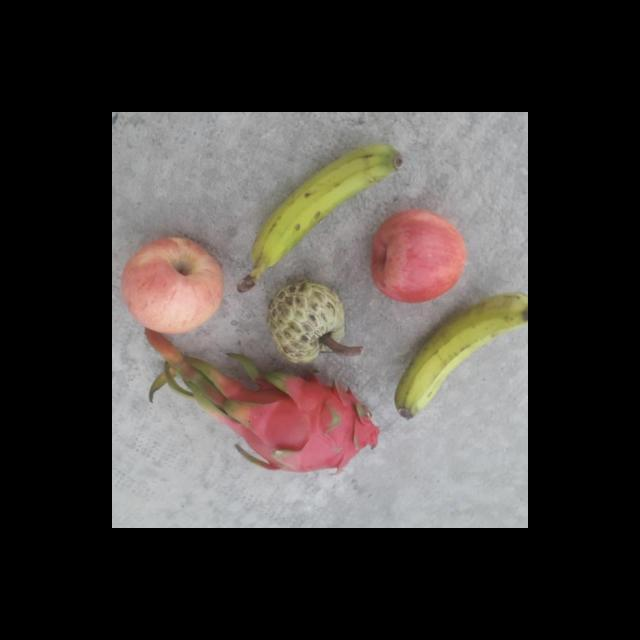Sakya fruit: (266, 280, 358, 367)
apple: (117, 233, 230, 334), (368, 210, 472, 304)
banana: (236, 142, 408, 295), (394, 294, 528, 419)
pitaya: (224, 364, 380, 474)
